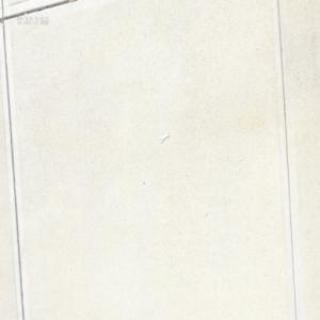Wrenchtrack_idkeyframe: (160, 130, 169, 142)
